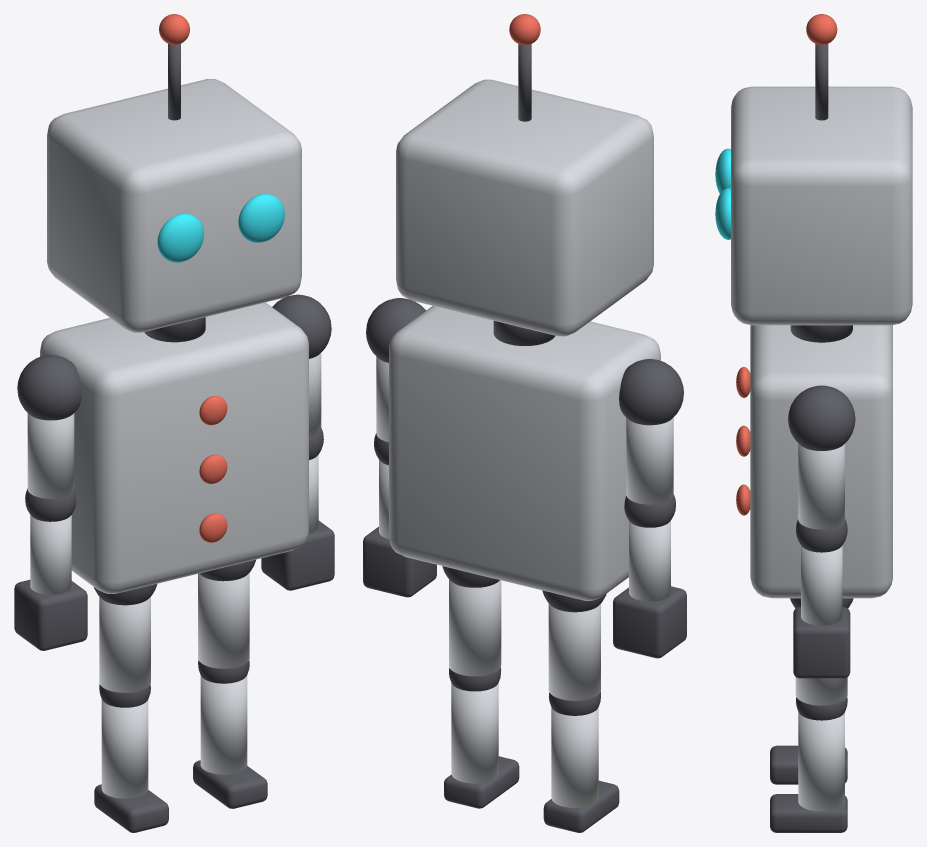
The model's file is robot.fbx.
3 views of the same model, side by side, from view 1: azimuth 30°, elevation 25°; view 2: azimuth 150°, elevation 25°; view 3: azimuth 270°, elevation 25° (orthographic).
Parts seen in each view (by area): view 1: Robot; view 2: Robot; view 3: Robot.
Boxes of the visible parts, x1=… form: Robot: x1=14, y1=14, x2=334, y2=832; Robot: x1=363, y1=14, x2=686, y2=832; Robot: x1=715, y1=14, x2=912, y2=832.
Bounding box in the file's own units: 68 × 167 × 38.
